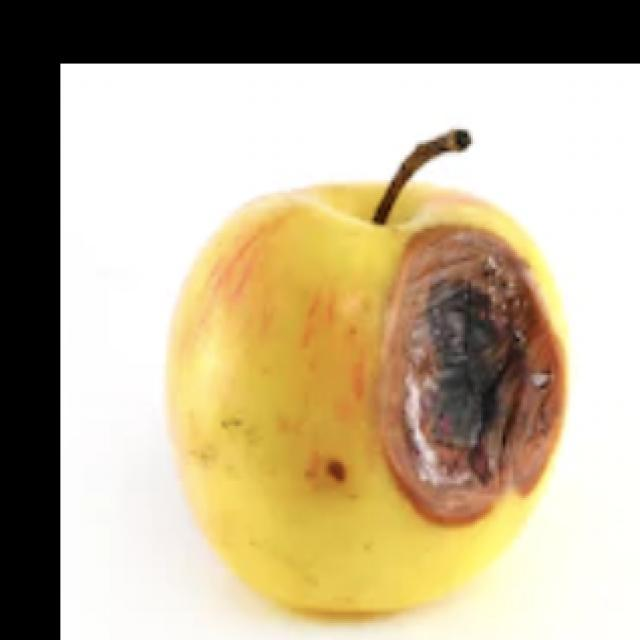Rotten: (173, 196, 549, 640)
